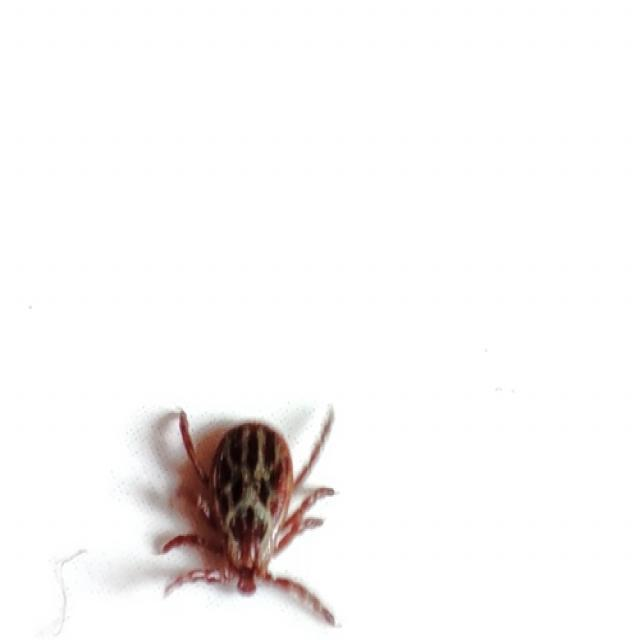Dermacentor Reticulatus-M: (157, 408, 338, 623)
